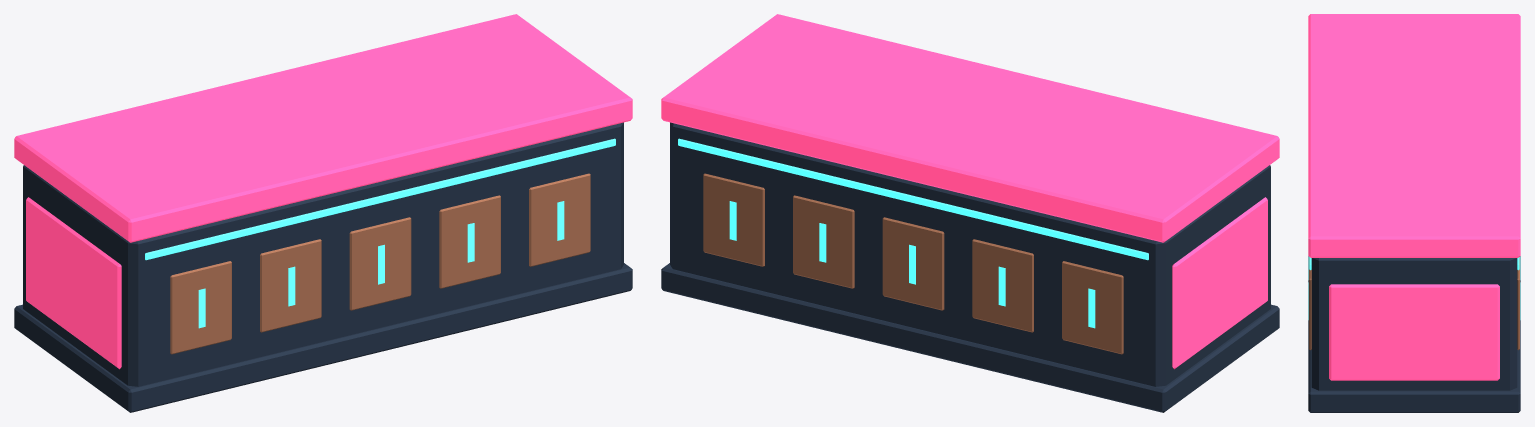
File: obstacle_neon.glb
3 views of the same model, side by side, from view 1: azimuth 30°, elevation 25°; view 2: azimuth 150°, elevation 25°; view 3: azimuth 270°, elevation 25° (orthographic). The views are drawn at different scales.
Parts seen in each view (by area): view 1: static_Arcade pink, static_Midnight, static_Terracotta, static_Neon cyan; view 2: static_Arcade pink, static_Midnight, static_Terracotta, static_Neon cyan; view 3: static_Arcade pink, static_Midnight, static_Terracotta.
Boxes of the visible parts, x1=… form: static_Arcade pink: x1=14, y1=14, x2=632, y2=369; static_Midnight: x1=14, y1=122, x2=632, y2=412; static_Terracotta: x1=170, y1=173, x2=590, y2=354; static_Neon cyan: x1=145, y1=138, x2=615, y2=328; static_Arcade pink: x1=661, y1=14, x2=1279, y2=369; static_Midnight: x1=661, y1=122, x2=1279, y2=412; static_Terracotta: x1=703, y1=173, x2=1123, y2=354; static_Neon cyan: x1=678, y1=138, x2=1148, y2=328; static_Arcade pink: x1=1308, y1=14, x2=1520, y2=380; static_Midnight: x1=1308, y1=256, x2=1520, y2=412; static_Terracotta: x1=1309, y1=257, x2=1519, y2=350.
Size of the model in its own units: 9 by 3.3 by 3.6.
